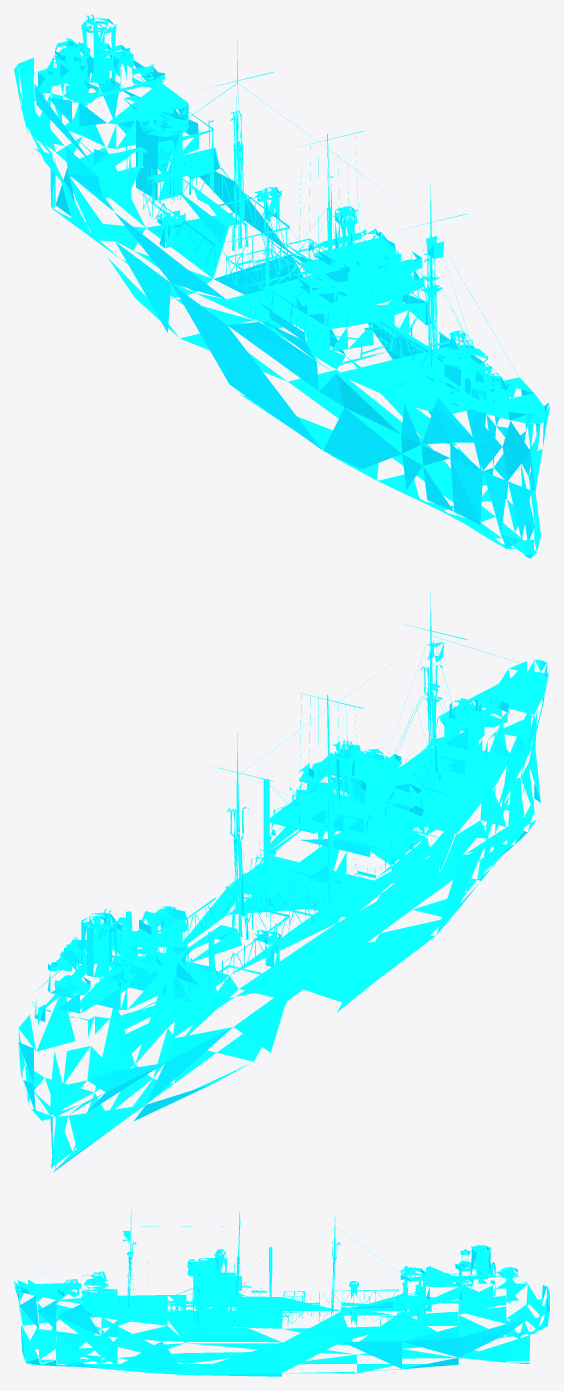
Rendered from PASX001.glb.
3 renders of one model, top to bottom at view 1: azimuth 30°, elevation 25°; view 2: azimuth 150°, elevation 25°; view 3: azimuth 270°, elevation 25°, orthographic. The views are drawn at different scales.
Visible parts, largest first — view 1: hull_mid, hull_stern, hull_bow, secondary_battery; view 2: hull_mid, hull_stern, hull_bow, secondary_battery; view 3: hull_mid, hull_stern, hull_bow, secondary_battery.
Boxes of the visible parts, x1,y1,x2,y2 form: hull_mid: (157,40,487,510); hull_stern: (14,14,290,337); hull_bow: (379,231,549,558); secondary_battery: (61,37,503,390); hull_mid: (157,593,494,1061); hull_stern: (18,897,297,1172); hull_bow: (392,635,549,879); secondary_battery: (61,689,503,989); hull_mid: (101,1202,358,1376); hull_stern: (320,1226,549,1373); hull_bow: (14,1238,193,1369); secondary_battery: (55,1266,517,1290).
Bounding box in the file's own units: 1.57 × 3.78 × 11.25.
